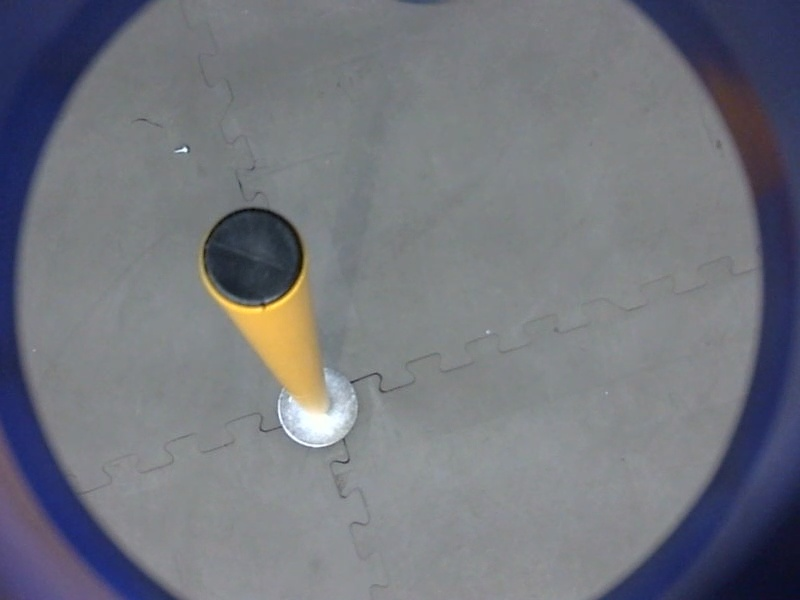tip: (194, 203, 311, 314)
